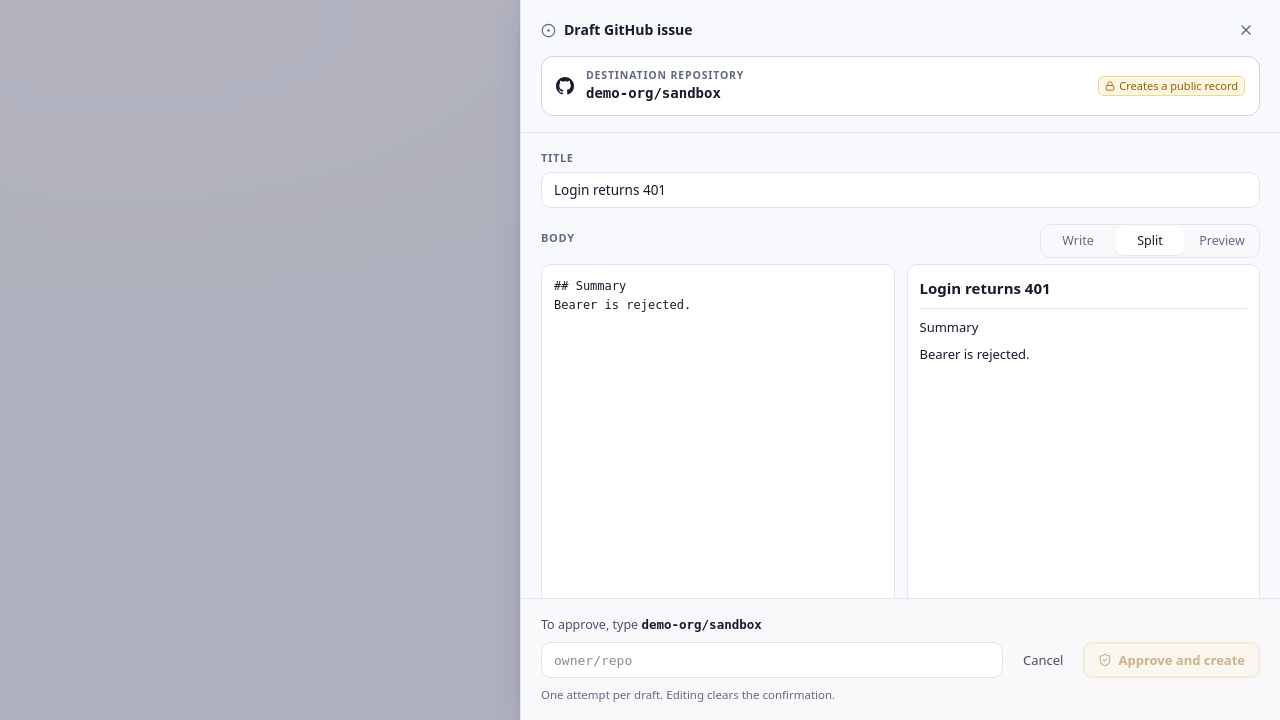
Test case: DraftDrawer approval › requires acknowledging similar open issues
Type "demo-org/sandbox" into the field named "Type the repository name to confirm" at (772, 660), box [541, 642, 1003, 678]
(page scrolled)
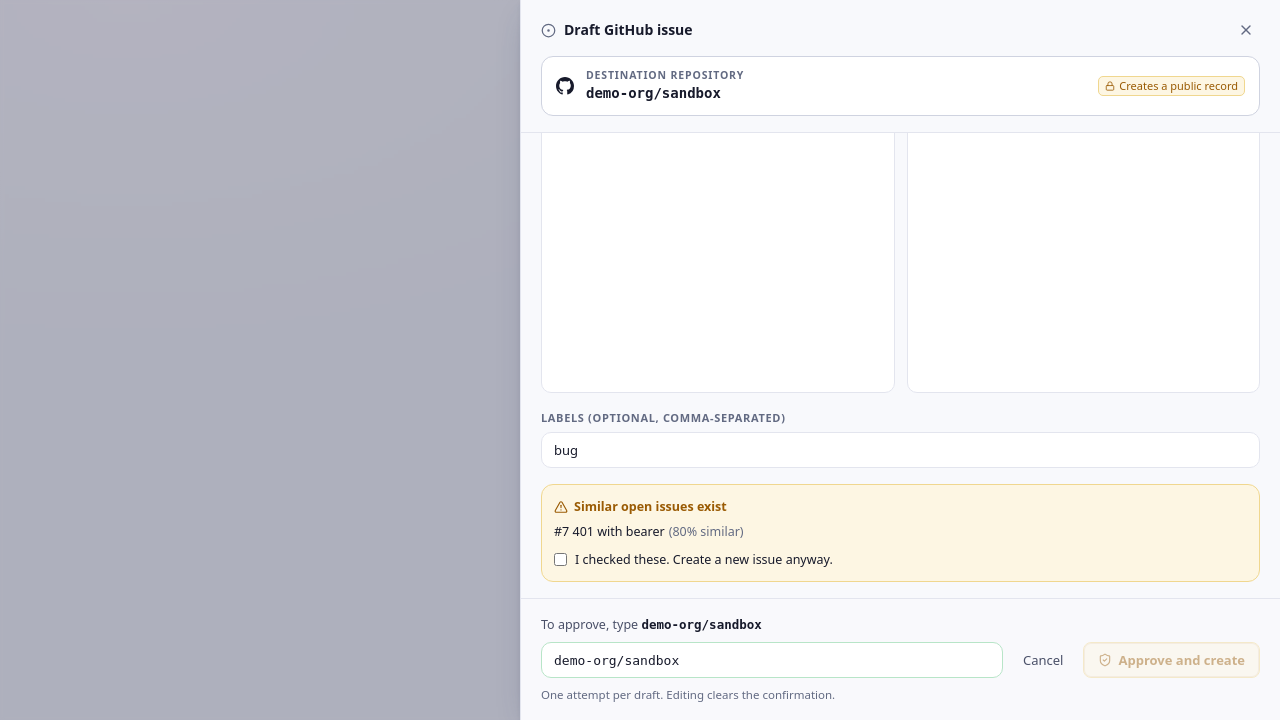
Expected: the button with test id "approve-button" is disabled, [1084, 642, 1260, 678]
Click the checkbox at (560, 560), box [554, 553, 567, 566]
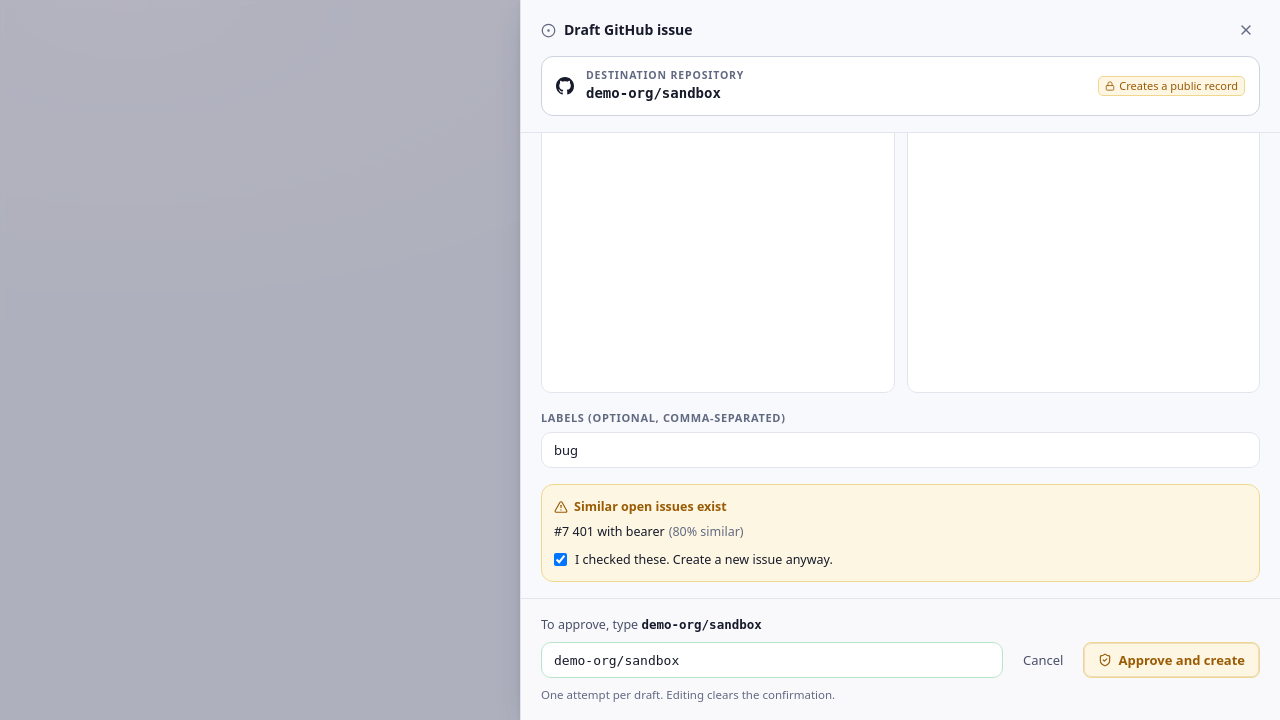
Expected: the button with test id "approve-button" is enabled, [1084, 642, 1260, 678]
